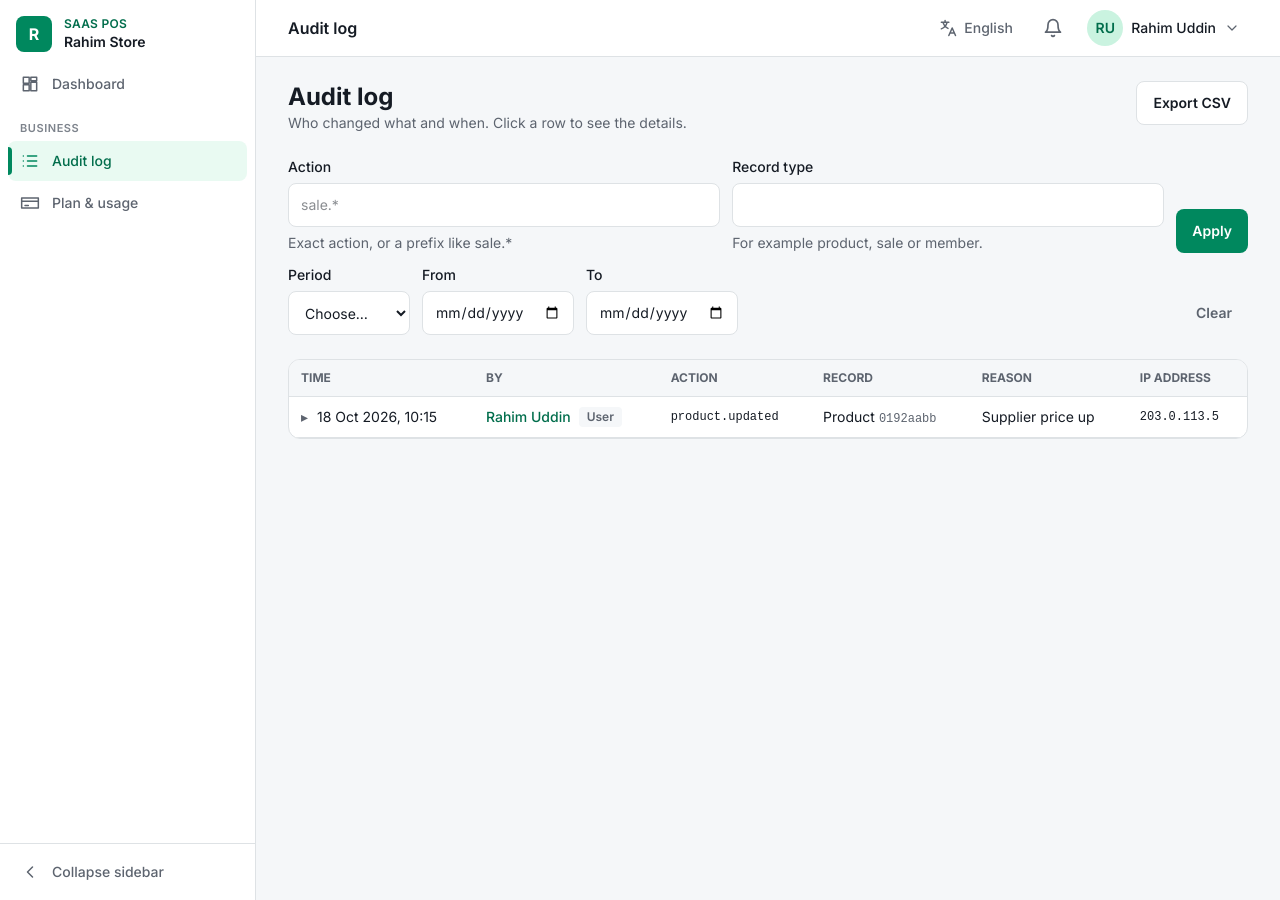
audit log › lists records and shows the before/after diff
Expected: the text "product.updated" is shown, top-left (659, 397), bottom-right (811, 438)
Expected: the text "Supplier price up" is shown, top-left (970, 397), bottom-right (1128, 438)
Click the button "▸ 18 Oct 2026, 10:15" at (369, 417), box top-left (301, 407), bottom-right (437, 427)
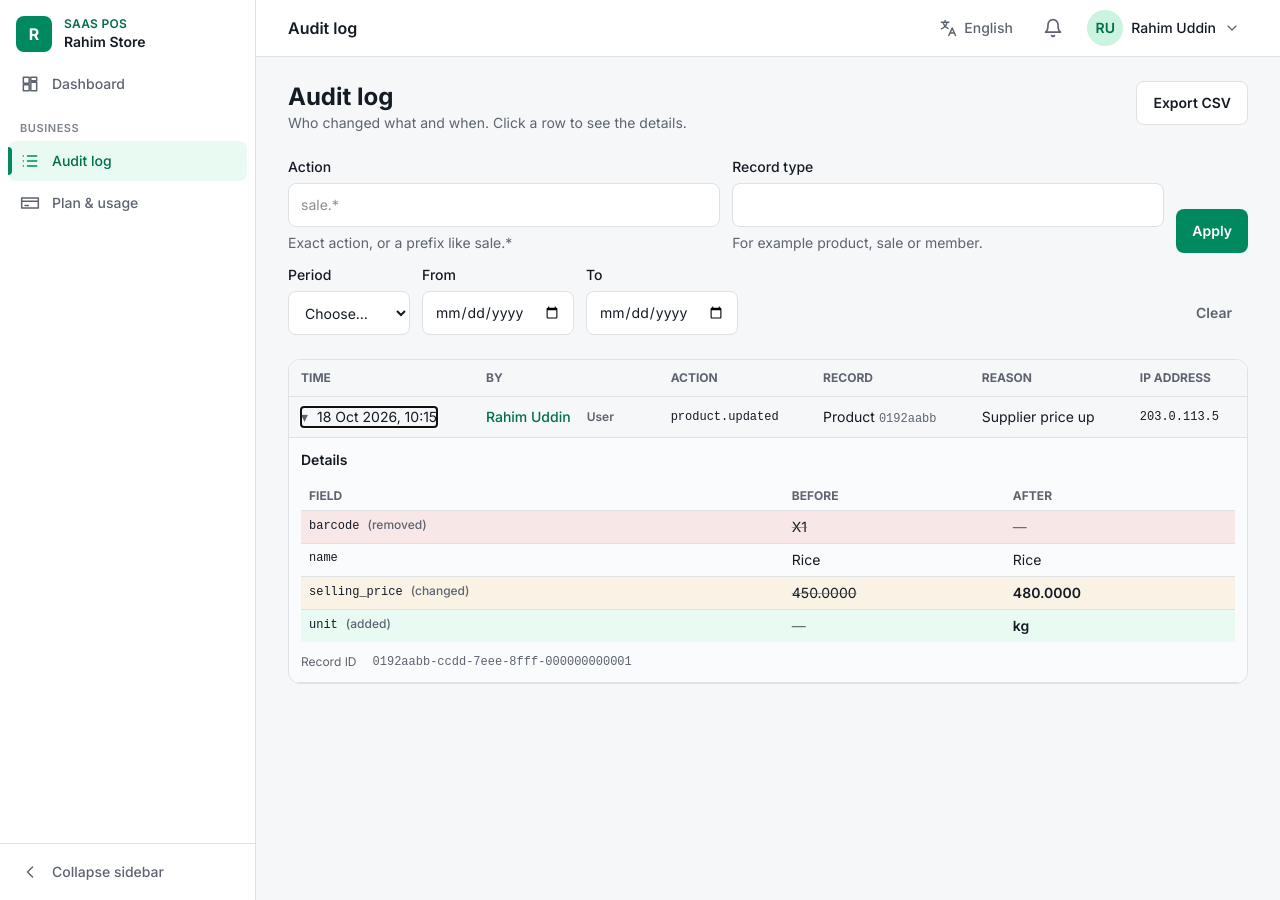
Now the text "450.0000" is shown, box top-left (792, 584), bottom-right (857, 601)
Now the text "480.0000" is shown, box top-left (1013, 584), bottom-right (1081, 601)
